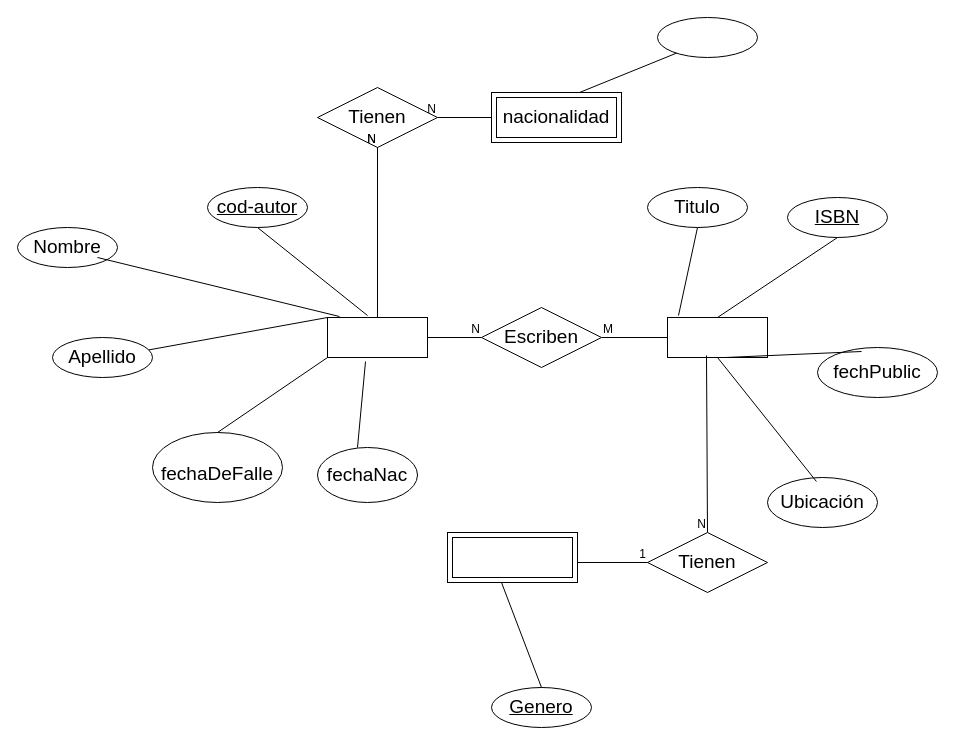
Image size: 955x745. Some labels were removed from this diagram. The shapes that lost their labels are listed below. From the top down, each one's centre as x and y in pixels, then its label:
the point at 707,37: Pais
the point at 377,337: Autores
the point at 717,337: Libros
the point at 512,557: generosLite
